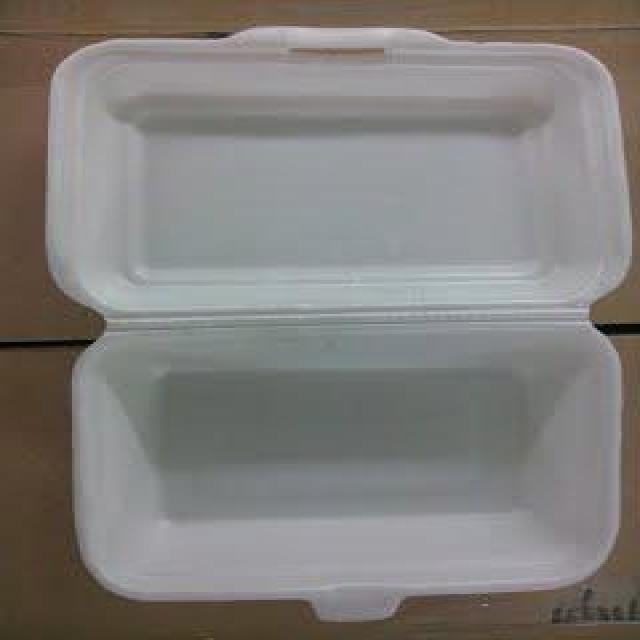styrofoam: (40, 22, 635, 622)
